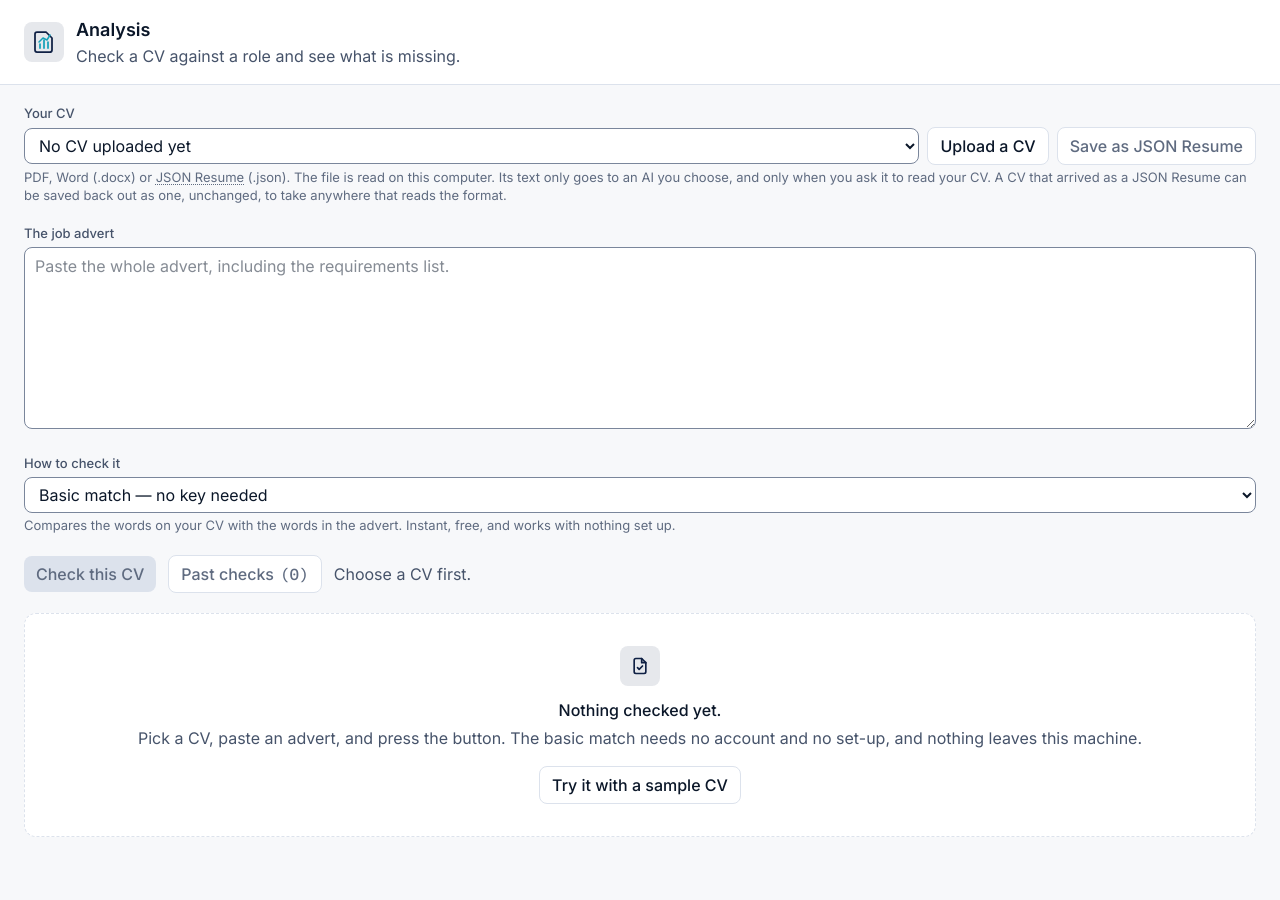
Scenario: uploading keeps the original only for a JSON Resume › a .json upload stores the file’s text verbatim, and the button goes live
Check: the dropdown with test id "analysis-provider" is shown, box [24,477,1256,513]
Click the button with test id "analysis-upload".
click(988, 146)  # box [928,127,1049,165]
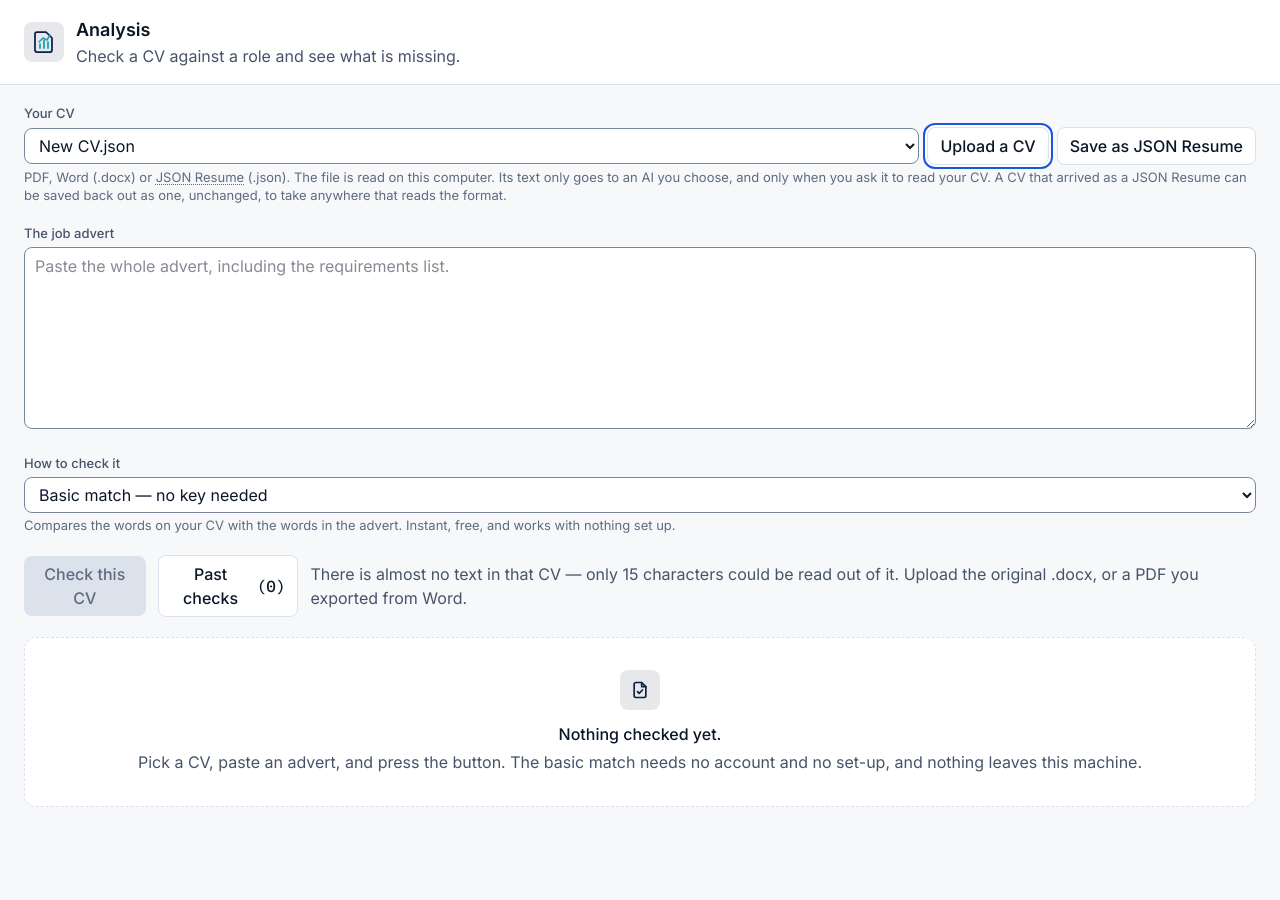
Check: the button with test id "analysis-save-json" is enabled, box [1057,127,1256,165]
